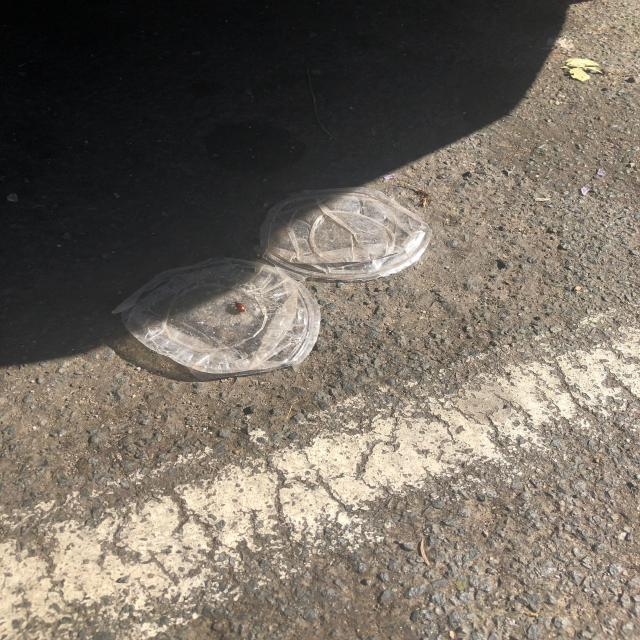litter: (112, 258, 317, 380), (260, 187, 432, 281)
